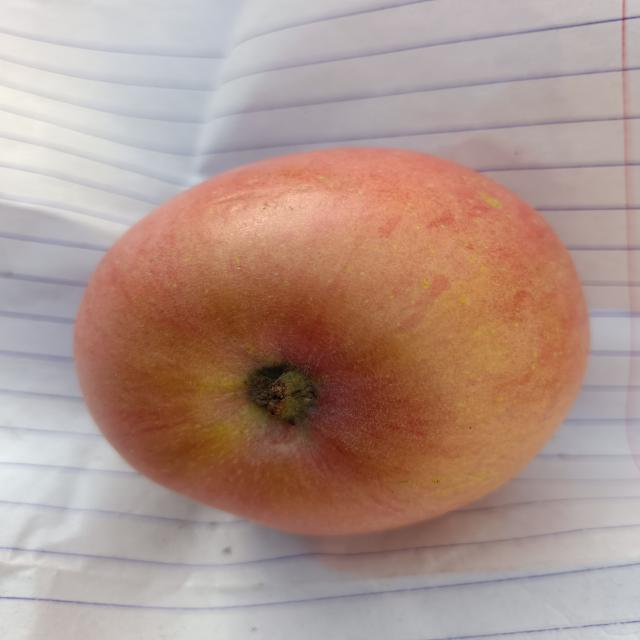Fresh Apple: (84, 152, 574, 542)
